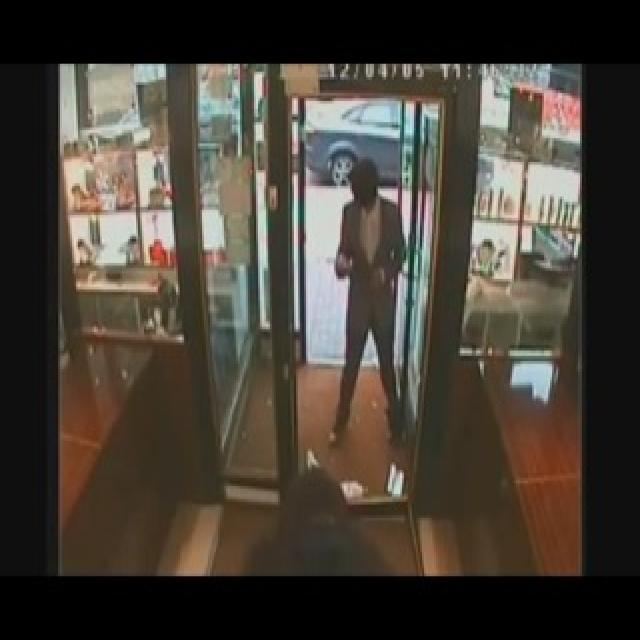thief: (330, 162, 407, 448)
